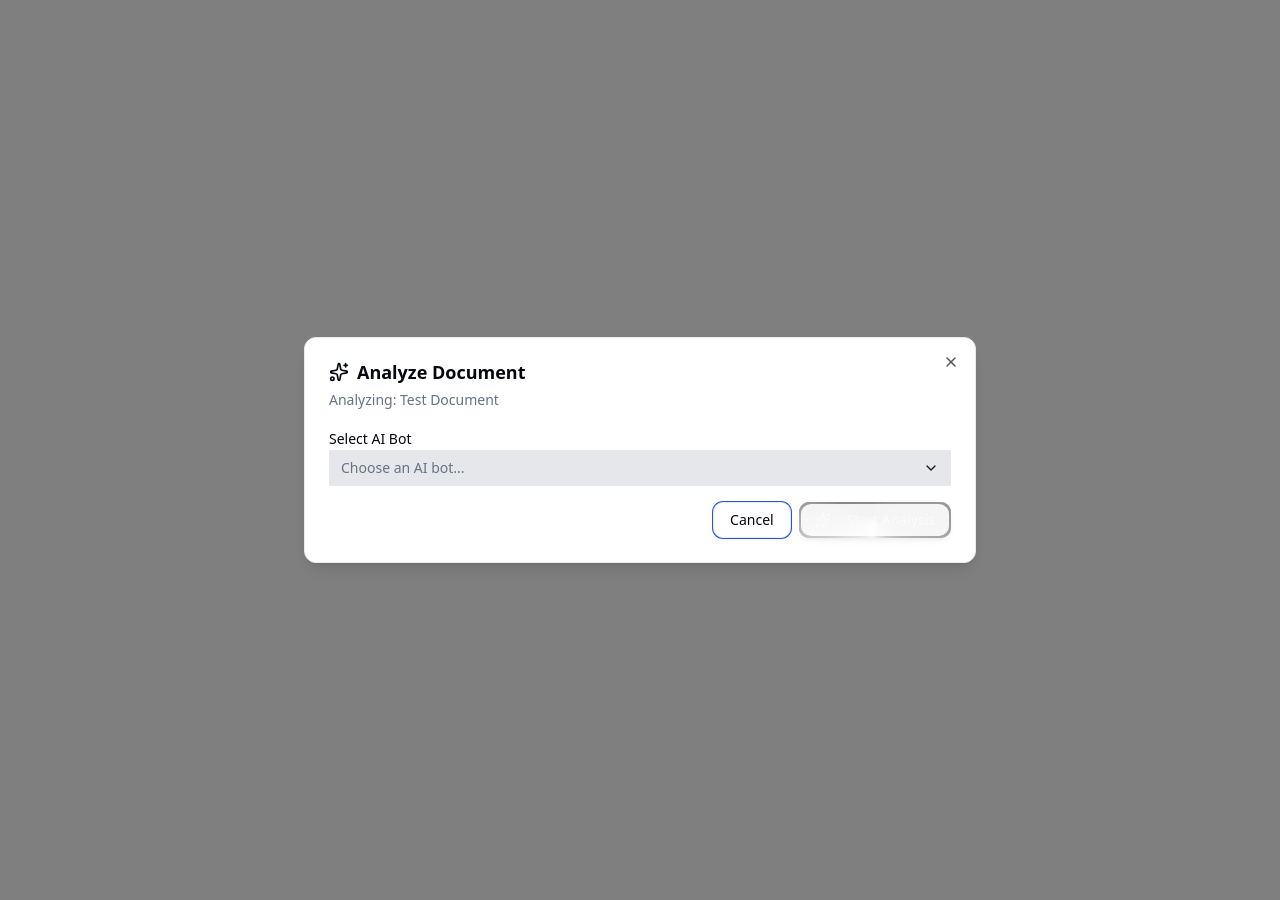
Test: AnalyzeDocumentDialog › displays analysis result after successful analysis
Note: Select a bot and start analysis
Click the dropdown with test id "select-bot".
click(403, 468)  # box [329,450,951,486]
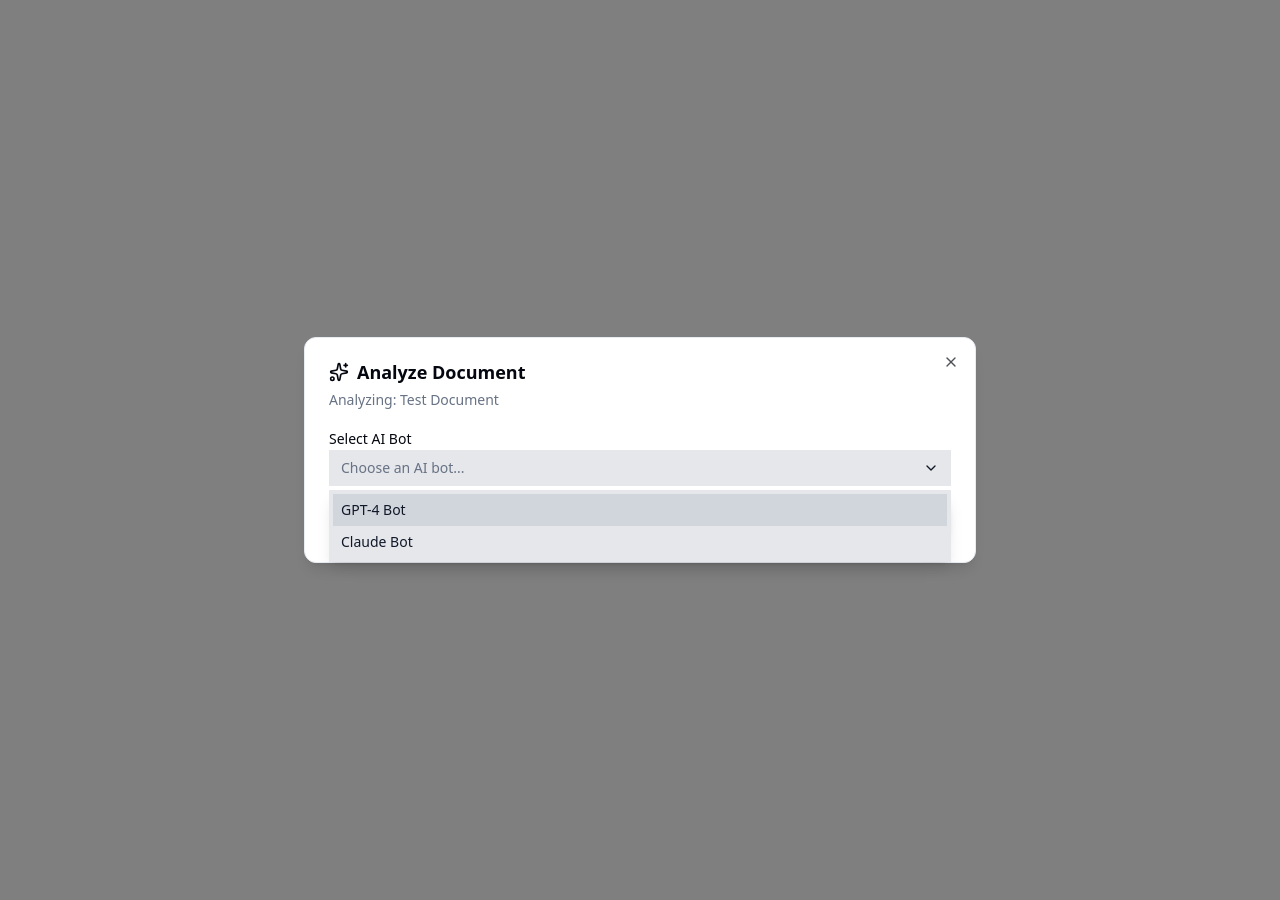
Click the option "GPT-4 Bot".
click(373, 510)  # box [333,494,947,526]
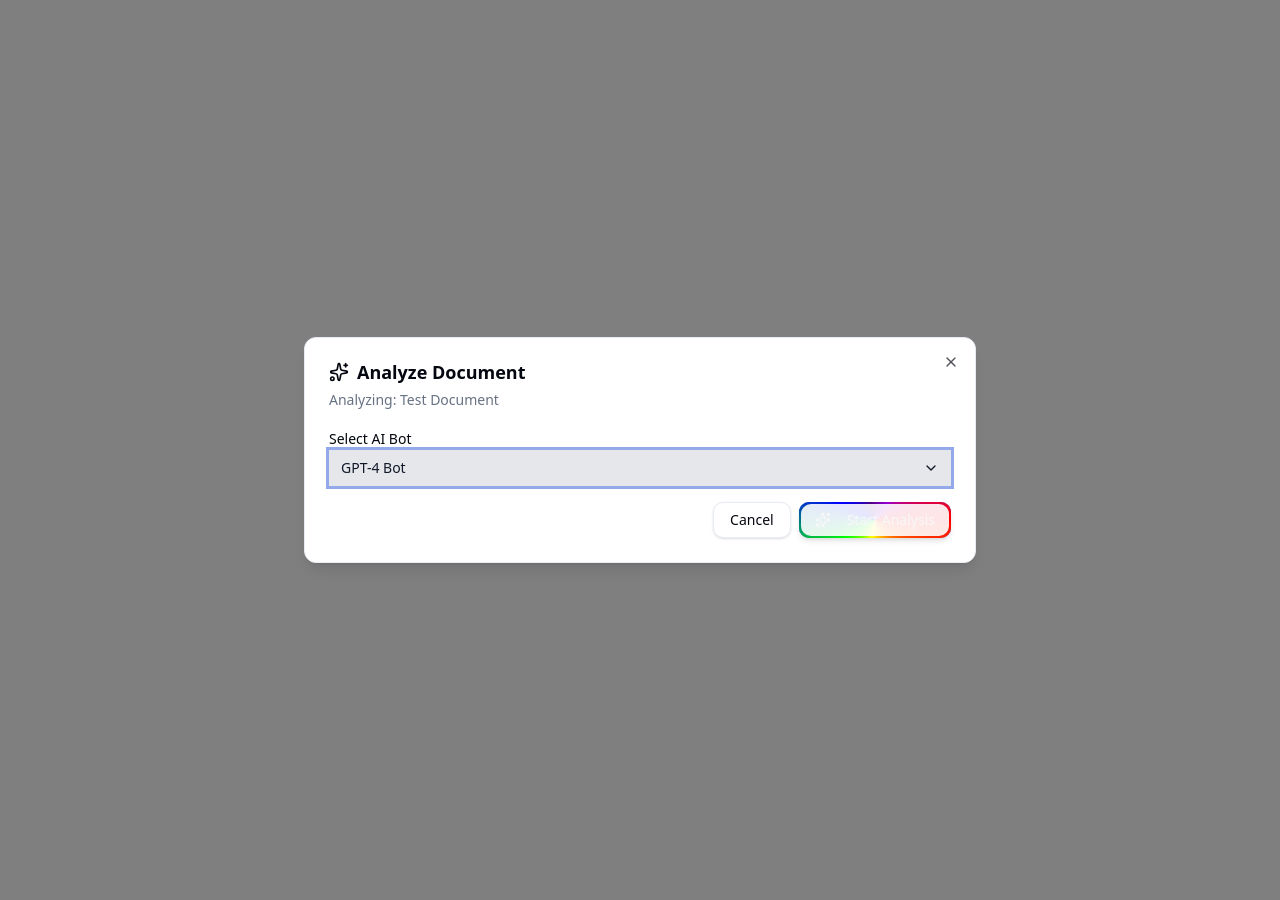
Click the button with test id "start-analysis".
click(875, 520)  # box [799,502,951,538]
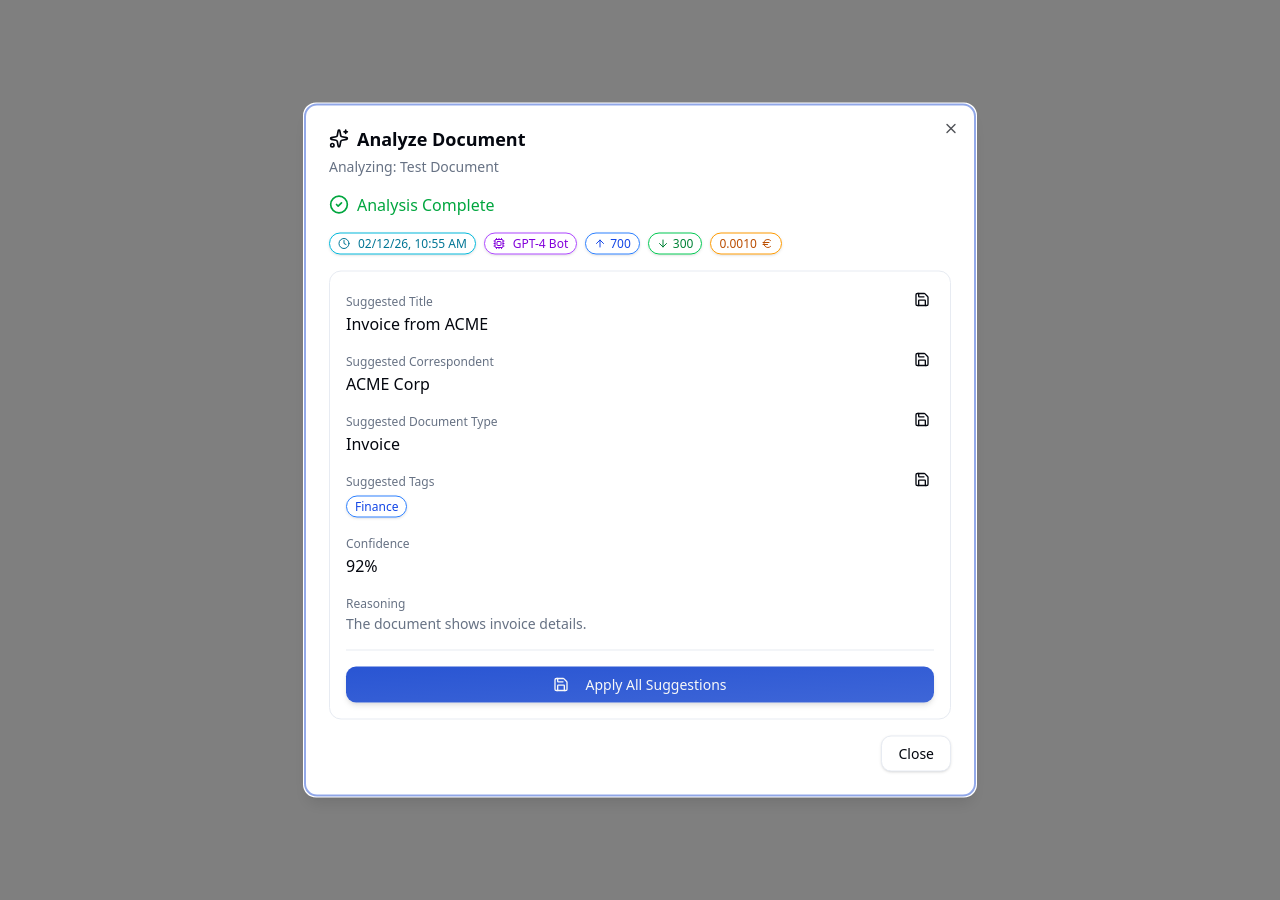
Result: the text "Invoice from ACME" is shown at [346,312,488,334]
Result: the text "ACME Corp" is shown at [346,372,430,394]
Result: the text "Invoice" is shown at [346,432,400,454]
